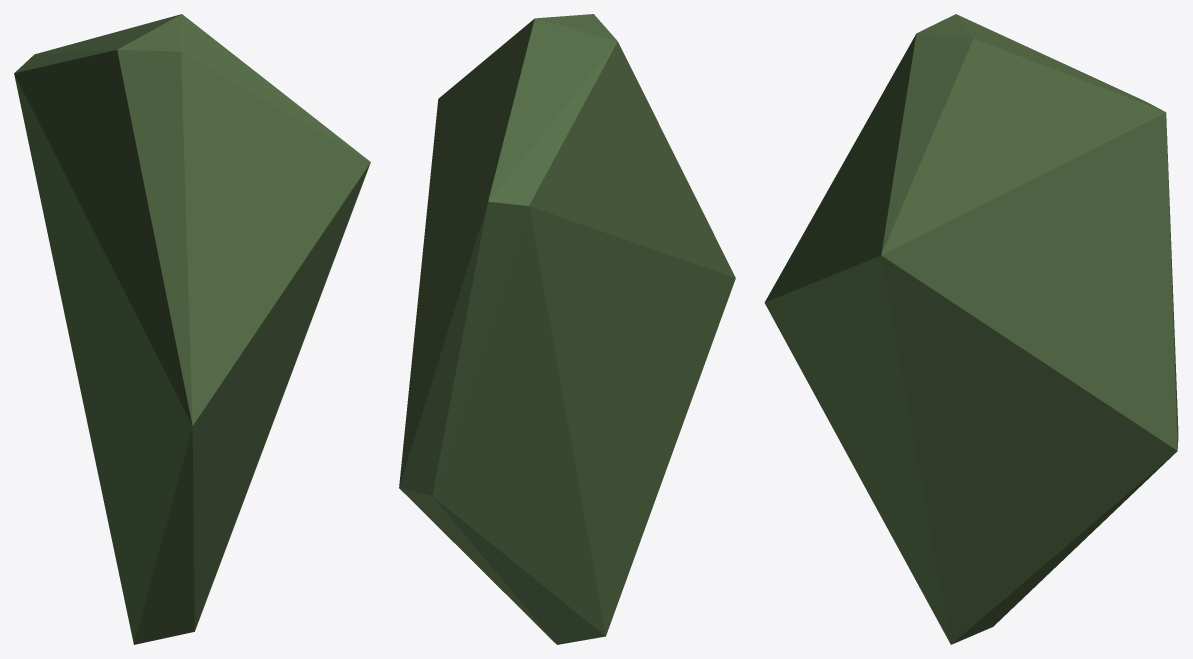
The model's file is Cactus_2.lod4.glb.
The picture shows the model from 3 angles, left to right: view 1: azimuth 30°, elevation 25°; view 2: azimuth 150°, elevation 25°; view 3: azimuth 270°, elevation 25°; orthographic projection.
Visible parts, largest first — view 1: Cactus_2; view 2: Cactus_2; view 3: Cactus_2.
Boxes of the visible parts, left/top/right/bottom form: Cactus_2: left=14, top=14, right=370, bottom=644; Cactus_2: left=399, top=14, right=735, bottom=644; Cactus_2: left=764, top=14, right=1178, bottom=644.
Bounding box in the file's own units: 0.689 × 1.69 × 1.05.
